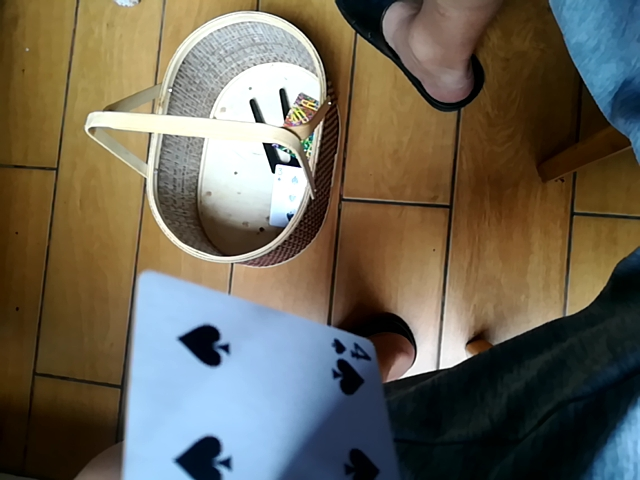ht 4: (120, 265, 386, 478)
